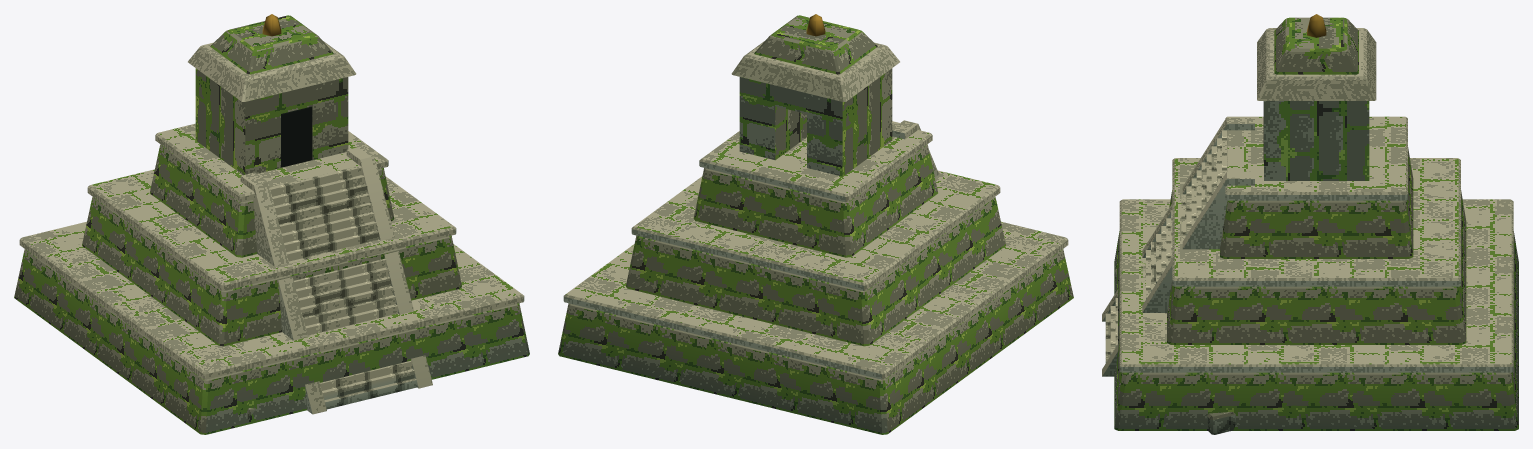
Rendered from ruin.pyramid.glb.
3 views of the same model, side by side, from view 1: azimuth 30°, elevation 25°; view 2: azimuth 150°, elevation 25°; view 3: azimuth 270°, elevation 25° (orthographic). The views are drawn at different scales.
Parts seen in each view (by area): view 1: kit_tiers, kit_lips, kit_stairs, kit_shrine, kit_roof, kit_balustrades, kit_shrine_door; view 2: kit_tiers, kit_lips, kit_shrine, kit_roof; view 3: kit_tiers, kit_lips, kit_roof, kit_shrine, kit_balustrades, kit_stairs, kit_rubble.
Boxes of the visible parts, bbox=[...] form: kit_tiers: bbox=[14, 144, 529, 434]; kit_lips: bbox=[19, 123, 524, 379]; kit_stairs: bbox=[270, 165, 416, 409]; kit_shrine: bbox=[195, 68, 348, 175]; kit_roof: bbox=[188, 14, 356, 101]; kit_balustrades: bbox=[240, 146, 432, 414]; kit_shrine_door: bbox=[281, 106, 312, 167]; kit_tiers: bbox=[558, 144, 1073, 434]; kit_lips: bbox=[563, 123, 1068, 379]; kit_shrine: bbox=[739, 68, 892, 176]; kit_roof: bbox=[731, 14, 899, 101]; kit_tiers: bbox=[1114, 147, 1518, 430]; kit_lips: bbox=[1119, 116, 1513, 372]; kit_roof: bbox=[1257, 14, 1376, 100]; kit_shrine: bbox=[1264, 101, 1369, 180]; kit_balustrades: bbox=[1102, 116, 1254, 376]; kit_stairs: bbox=[1105, 130, 1226, 362]; kit_rubble: bbox=[1115, 269, 1235, 434].
Size of the model in its own units: 11.73 by 10.48 by 11.85.
8 materials, 7 textured.
